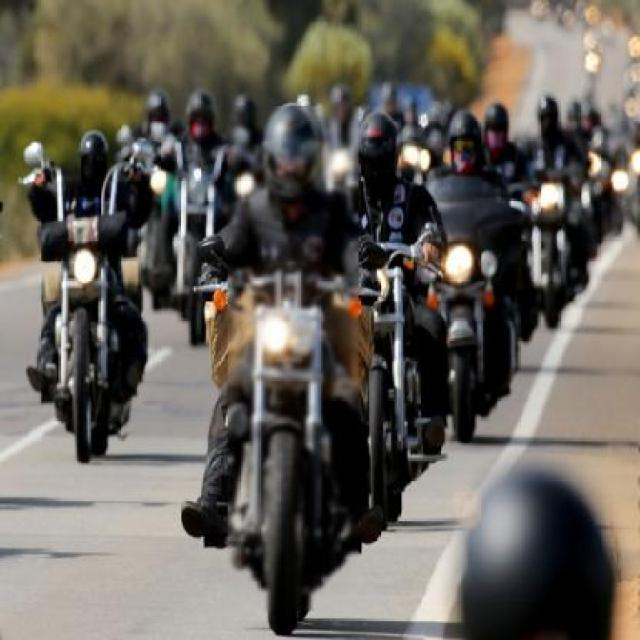helmet: (448, 474, 618, 640), (258, 101, 323, 204), (347, 106, 405, 190), (436, 106, 486, 182), (66, 123, 124, 186), (126, 90, 180, 140), (483, 96, 513, 162), (186, 84, 217, 147), (528, 93, 568, 139)
motorcycle: (213, 107, 385, 635), (12, 128, 164, 462), (342, 113, 451, 475), (428, 112, 527, 434), (172, 93, 246, 347), (519, 105, 585, 324)
